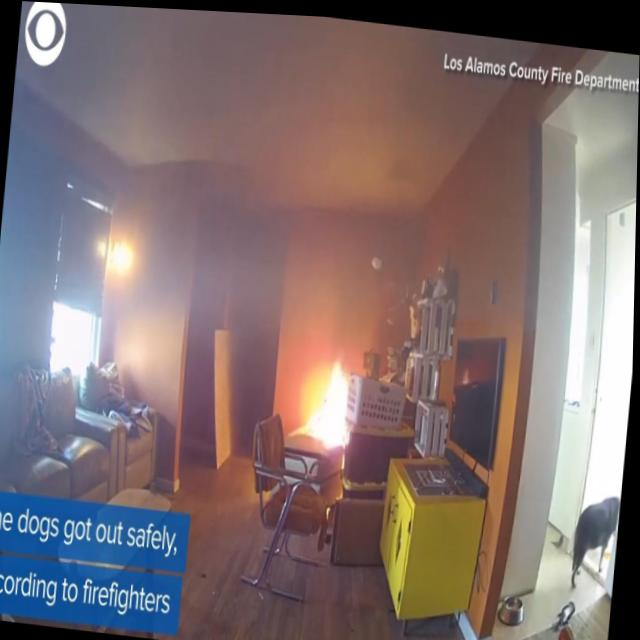fire: (299, 355, 357, 438)
